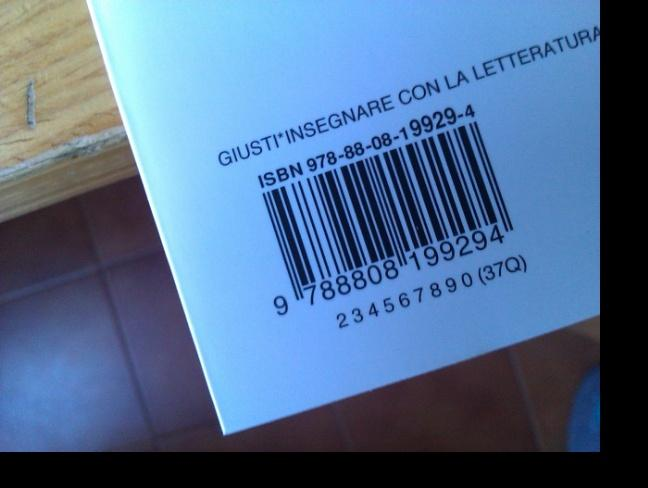Barcode: (255, 117, 516, 324)
